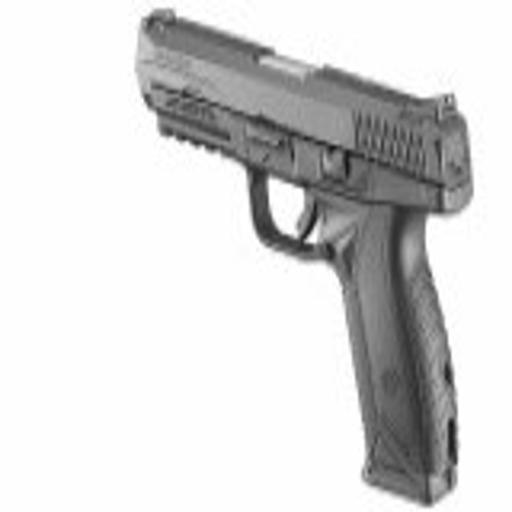Handgun: (130, 3, 475, 511)
